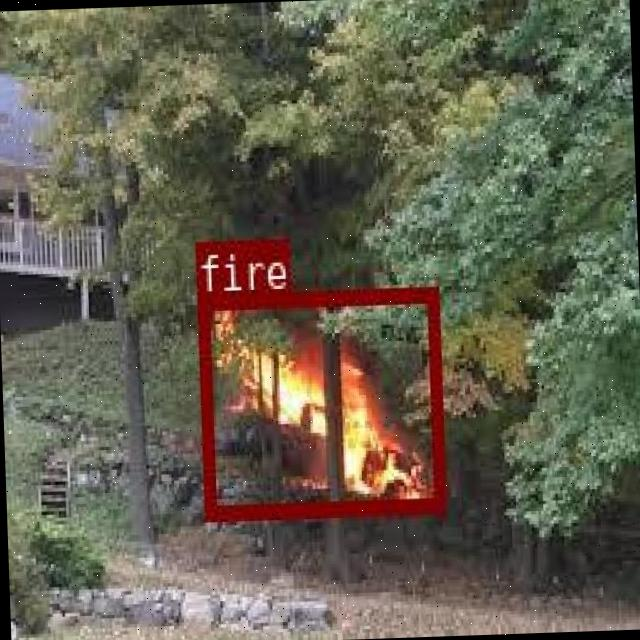fire: (196, 284, 444, 518)
